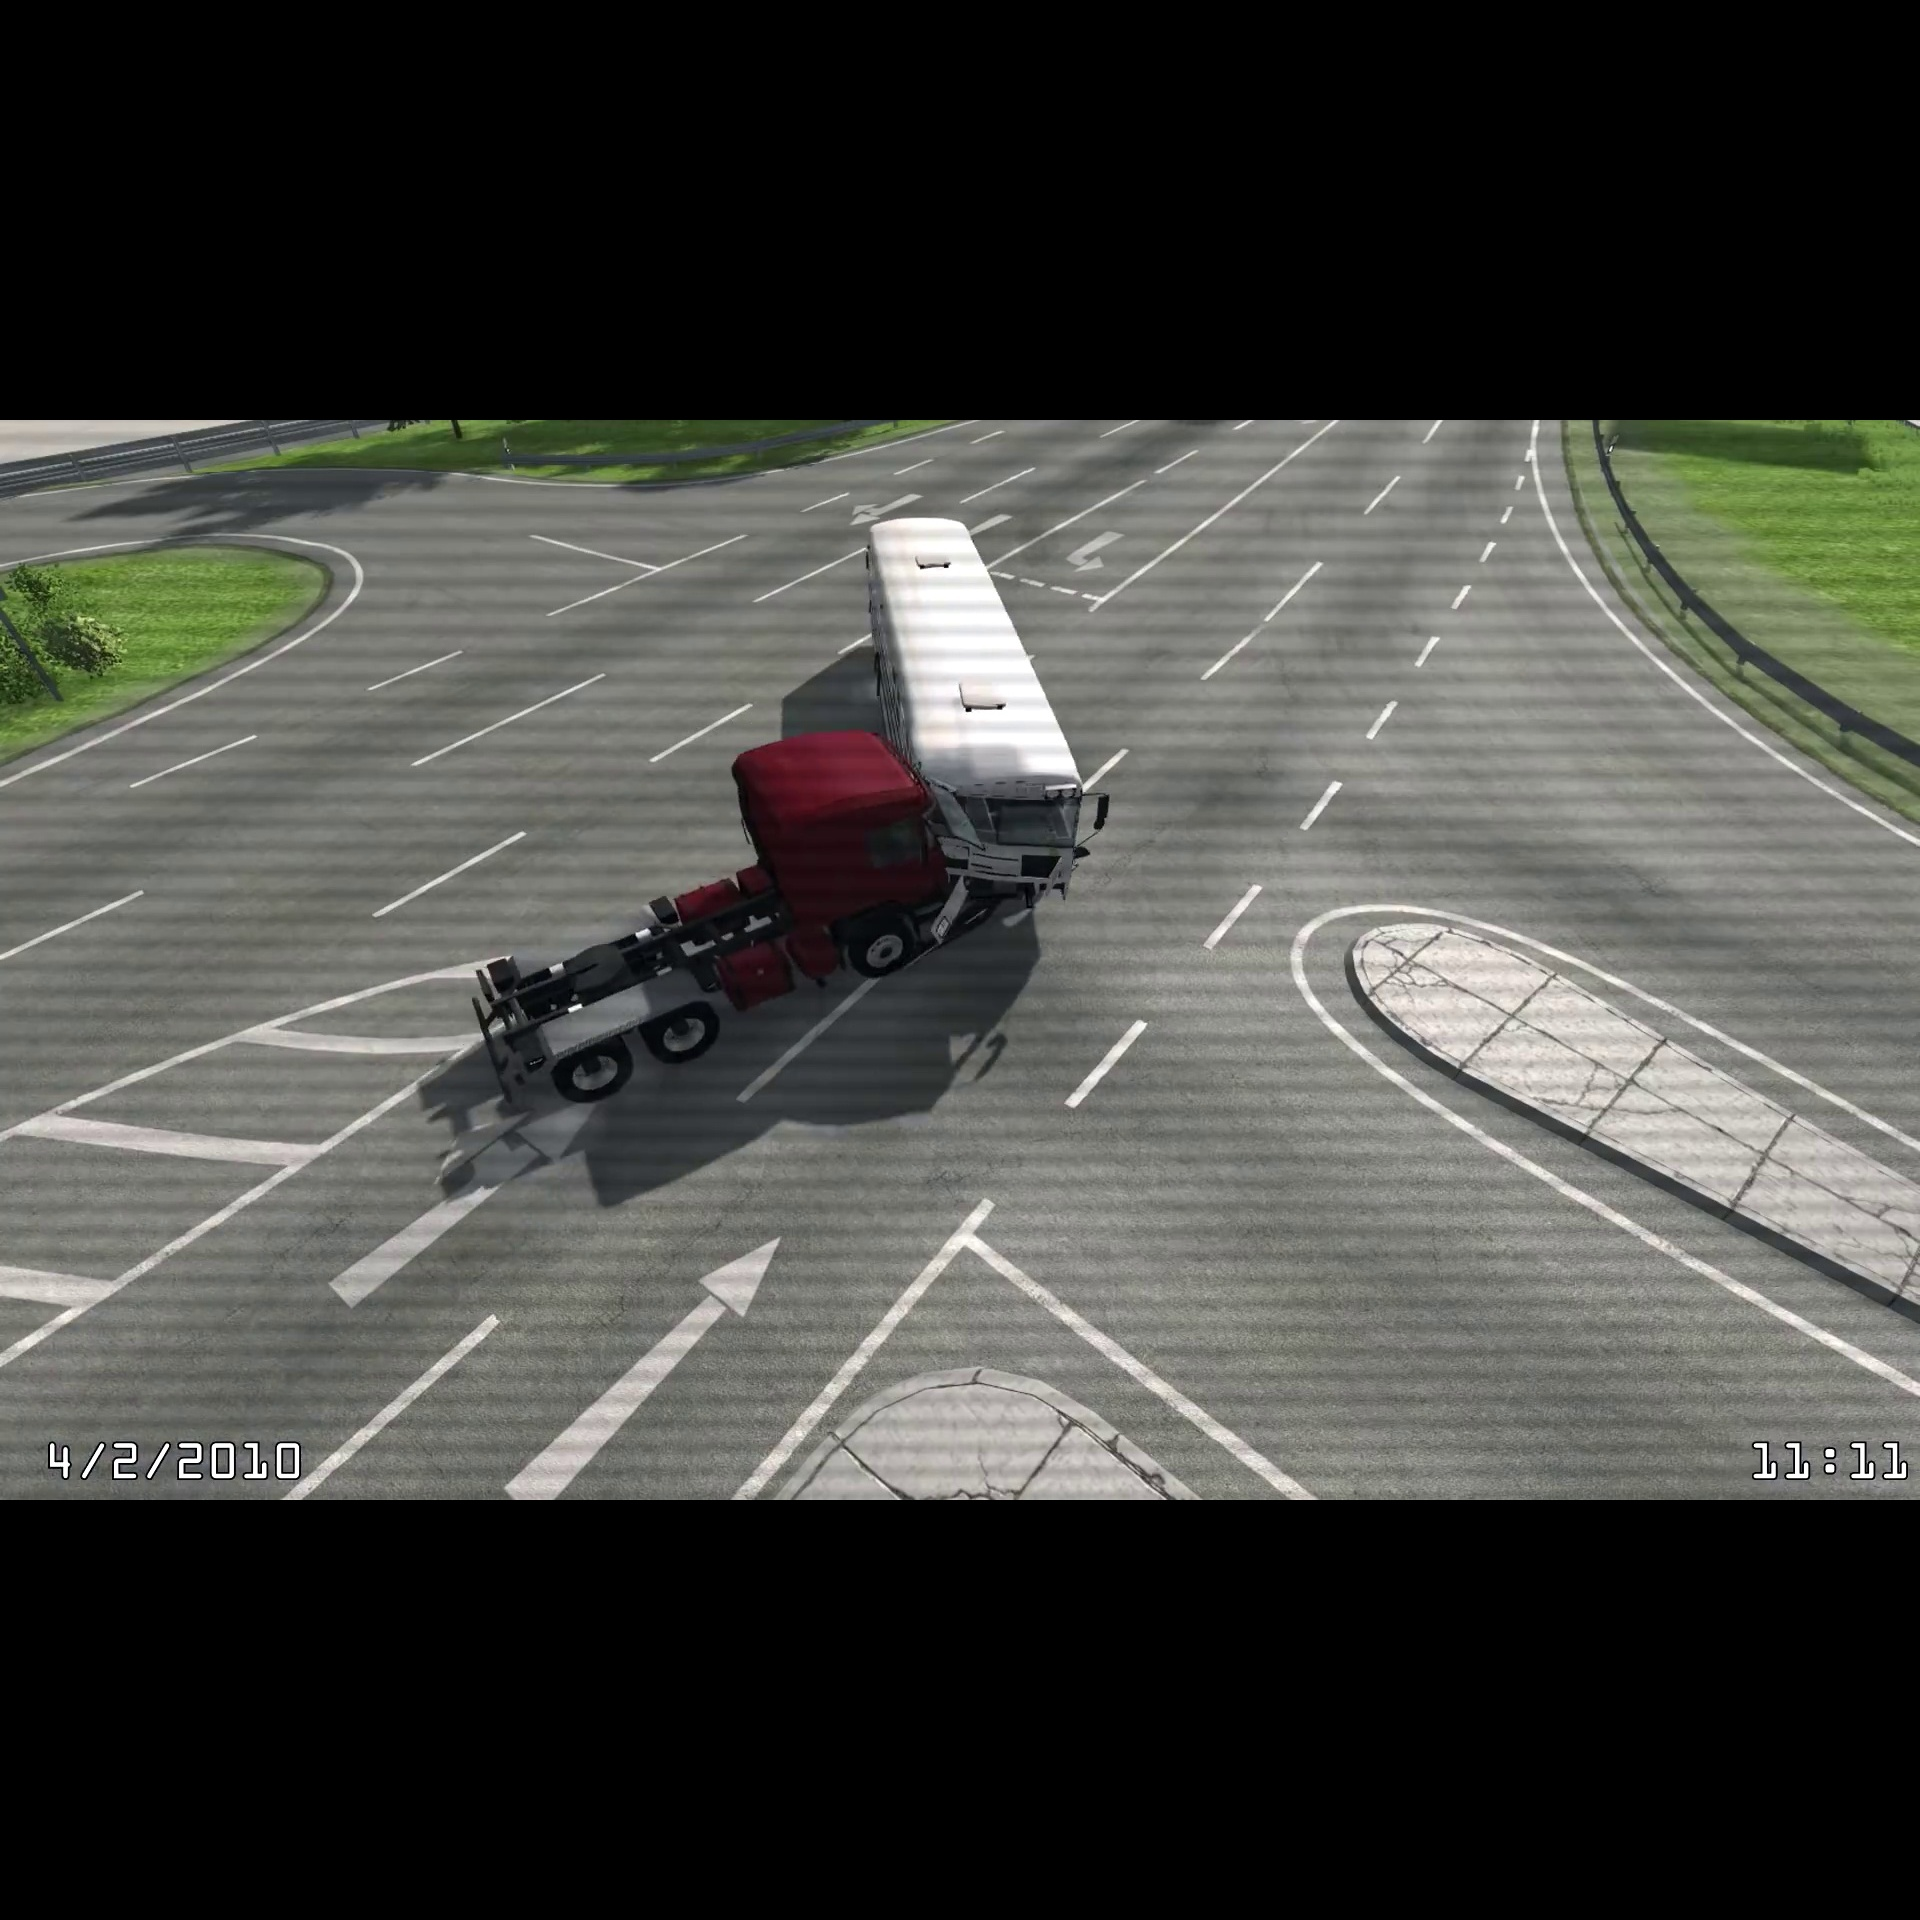vehicle: (462, 726, 971, 1118), (856, 506, 1104, 927)
